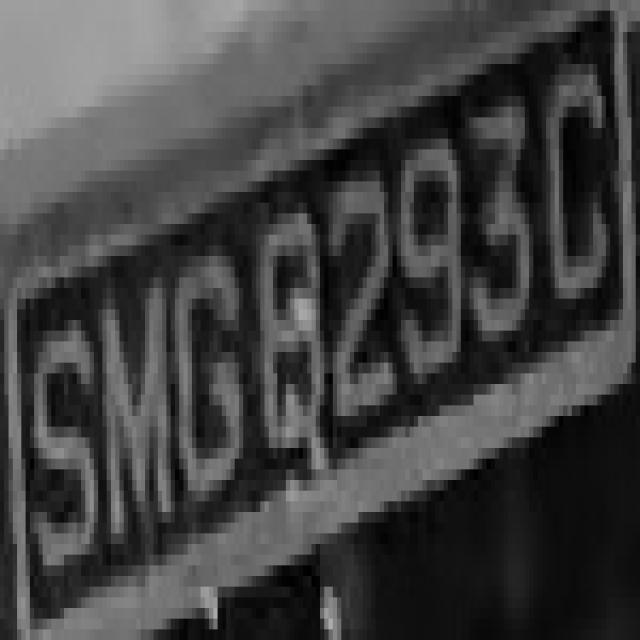2: (311, 171, 397, 448)
3: (452, 75, 529, 405)
8: (243, 160, 337, 491)
9: (384, 107, 469, 416)
C: (533, 53, 619, 320)
G: (166, 224, 239, 523)
M: (90, 256, 175, 555)
S: (22, 299, 102, 608)
